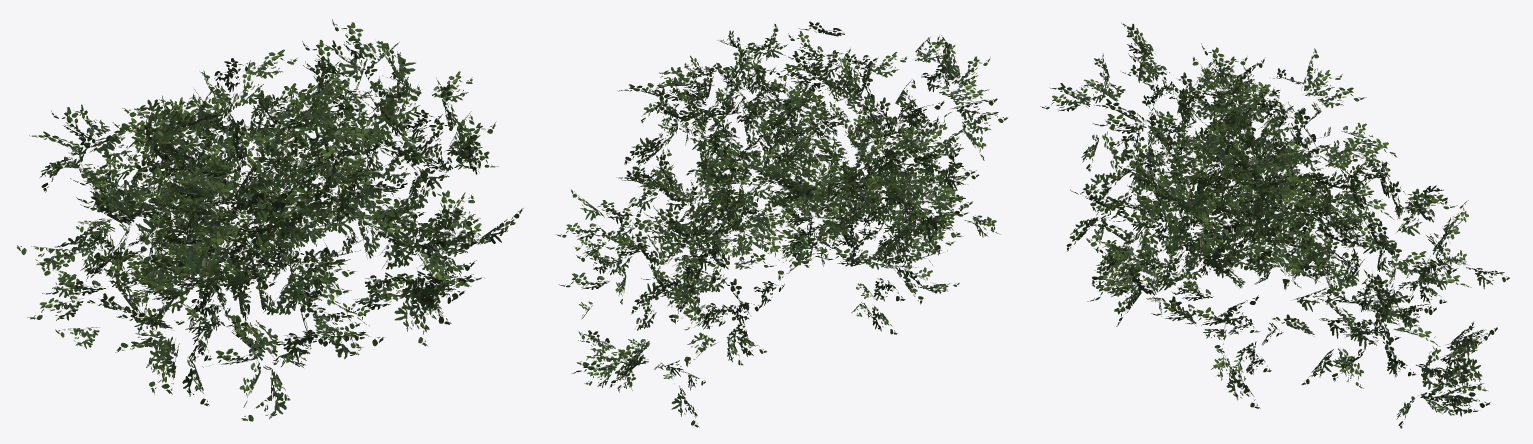
The model's file is MESH_WE17_QuercusAgrifolia_M_LOD1.fbx.
3 renders of one model, left to right at view 1: azimuth 30°, elevation 25°; view 2: azimuth 150°, elevation 25°; view 3: azimuth 270°, elevation 25°, orthographic. The views are drawn at different scales.
Visible parts, largest first — view 1: MI_LOD1_001; view 2: MI_LOD1_001; view 3: MI_LOD1_001.
Part boxes in pixels (left/top/right/bottom): MI_LOD1_001: left=16, top=19, right=523, bottom=421; MI_LOD1_001: left=555, top=21, right=1007, bottom=427; MI_LOD1_001: left=1040, top=22, right=1509, bottom=428.
Size of what is drawn, in the model's own units: 763 by 662 by 878.
